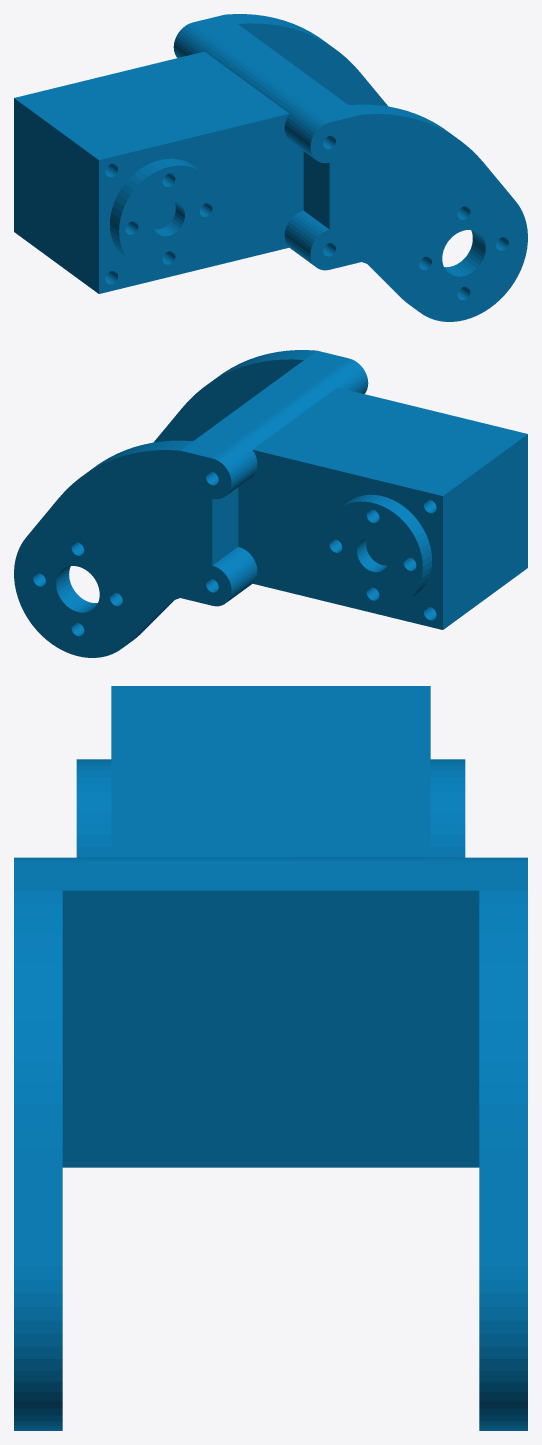
File: hexy_urdf_v2_7_Femur_4_vis_1.dae
3 renders of one model, top to bottom at view 1: azimuth 30°, elevation 25°; view 2: azimuth 150°, elevation 25°; view 3: azimuth 270°, elevation 25°, orthographic. The views are drawn at different scales.
Parts seen in each view (by area): view 1: node; view 2: node; view 3: node.
Boxes of the visible parts, left/top/right/bottom form: node: left=14, top=14, right=527, bottom=321; node: left=14, top=350, right=527, bottom=657; node: left=14, top=686, right=527, bottom=1430.
Bounding box in the file's own units: 0.315 × 0.1721 × 0.185.
